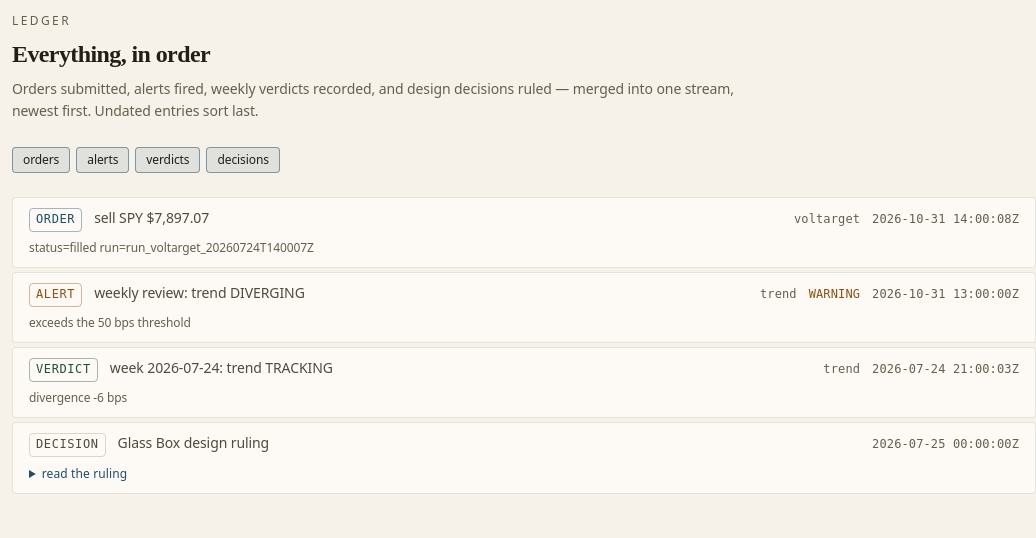
Ledger › expands a decision to its full body
Click the heading "read the ruling" at (84, 474), box [42,465,127,482]
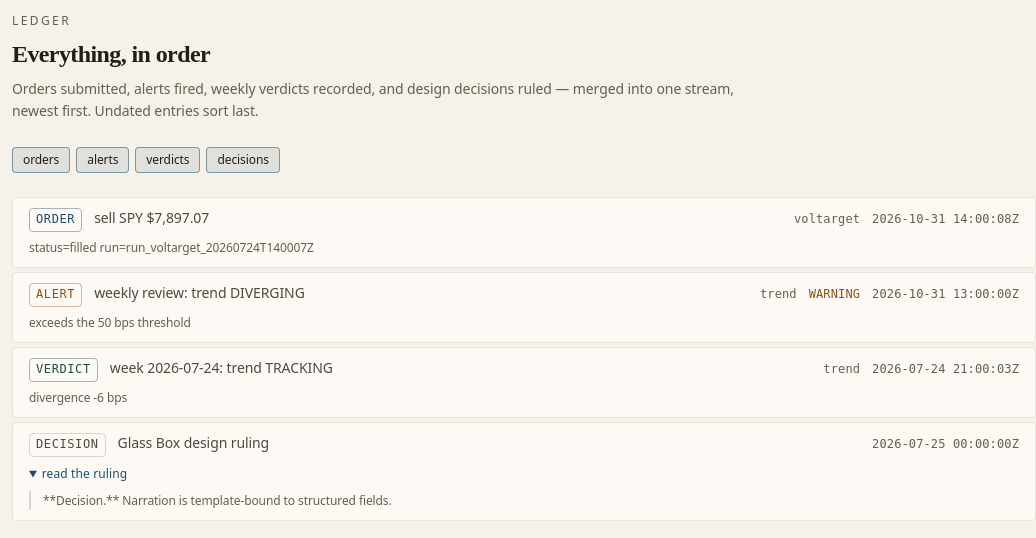
Check: the text with test id "decision-body" shows "Narration is template-bound", box [43,492,392,509]
